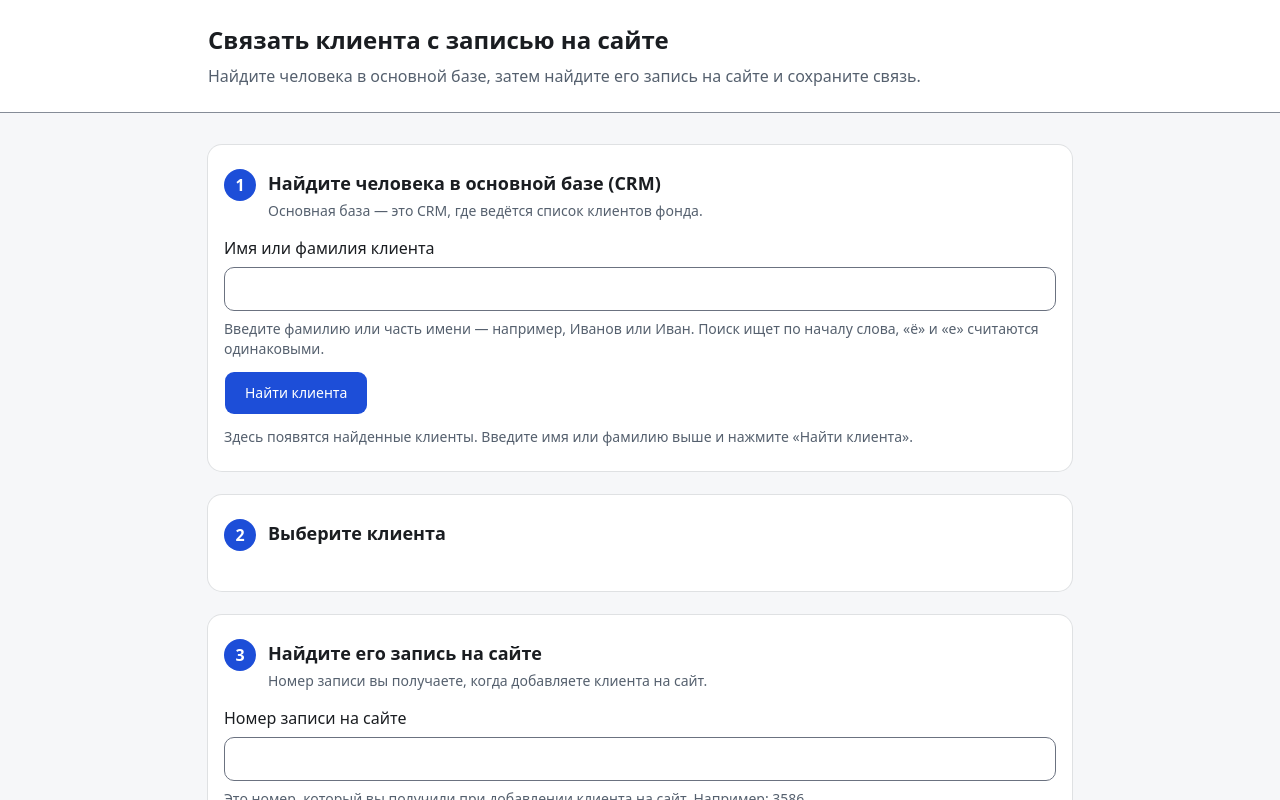
Test case: поиск клиента в основной базе › показывает найденных кандидатов и не выбирает никого
Type "Иванов" into the field labelled "Имя или фамилия клиента". click: [640, 289]
box: [224,267,1056,311]
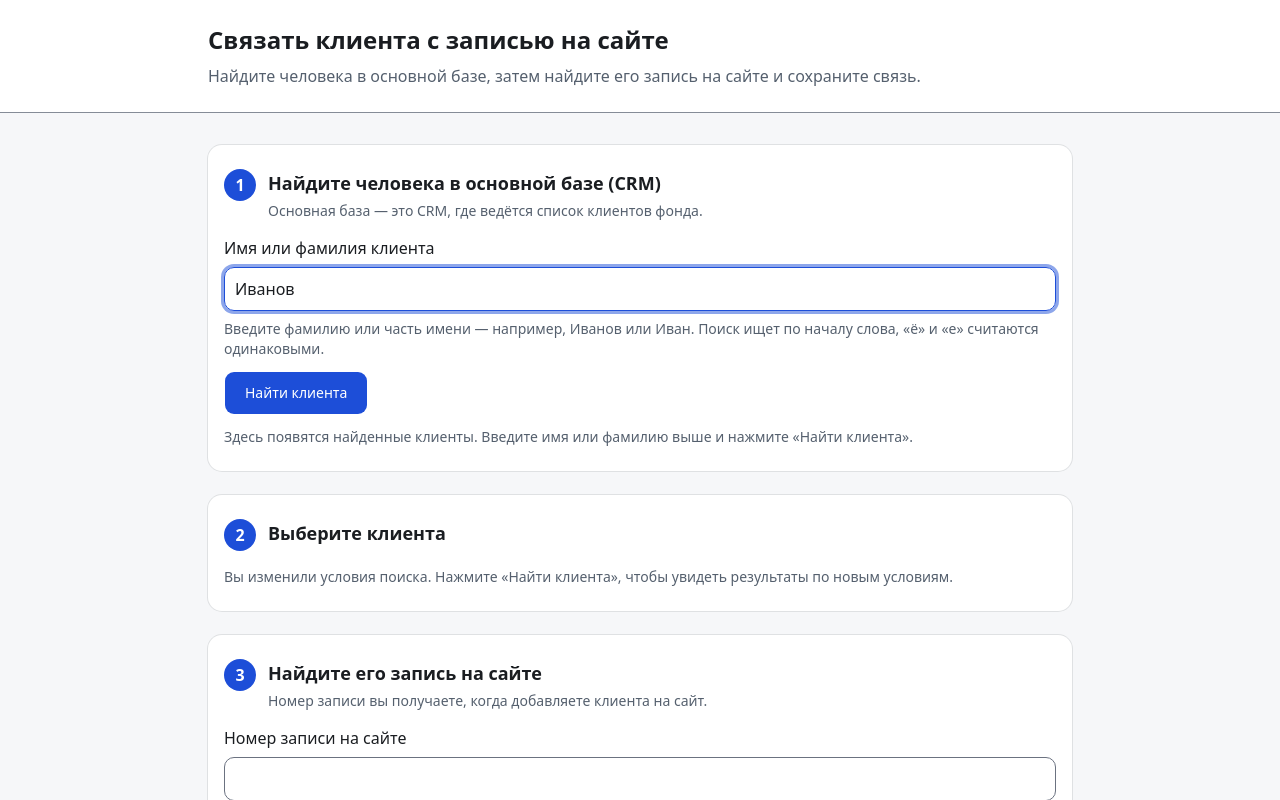
Click the button "Найти клиента". click: [296, 393]
box: [224,371,368,415]
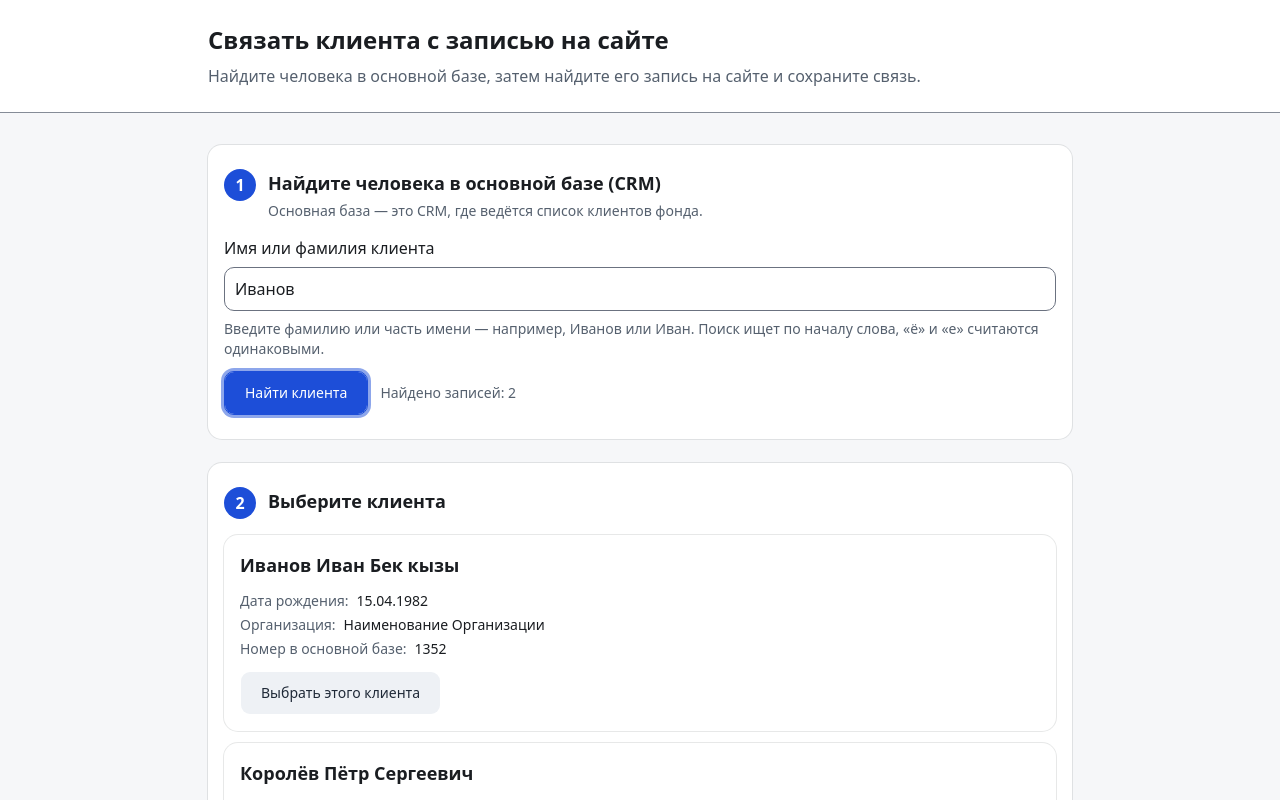
expect the text "Иванов Иван Бек кызы" is shown: met, box [240,553,459,577]
expect the text "Королёв Пётр Сергеевич" is shown: met, box [240,761,473,785]
expect the text "Наименование Организации" is shown: met, box [344,615,545,635]
